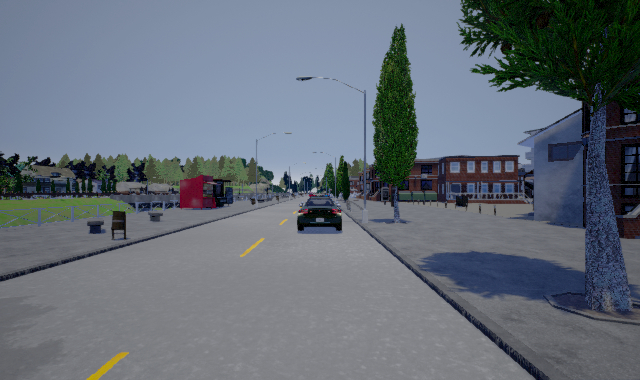vehicle: (297, 193, 342, 231)
